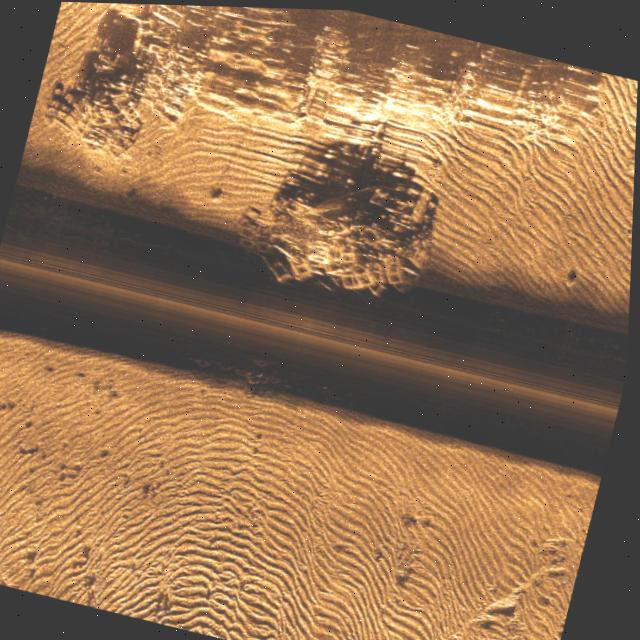artificial reef: (210, 139, 445, 305), (55, 29, 202, 173), (168, 330, 299, 394)
